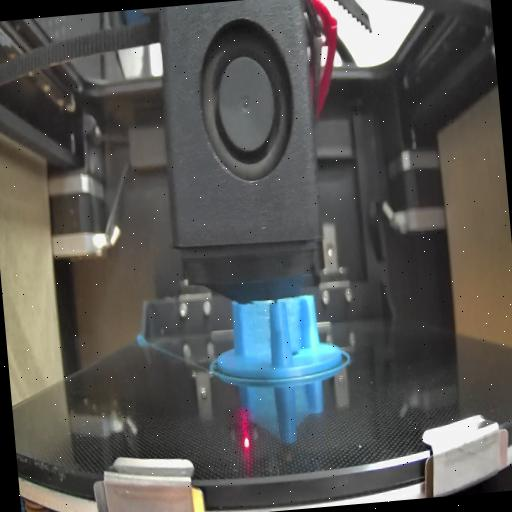stringing: (238, 297, 274, 370), (288, 297, 308, 356)
